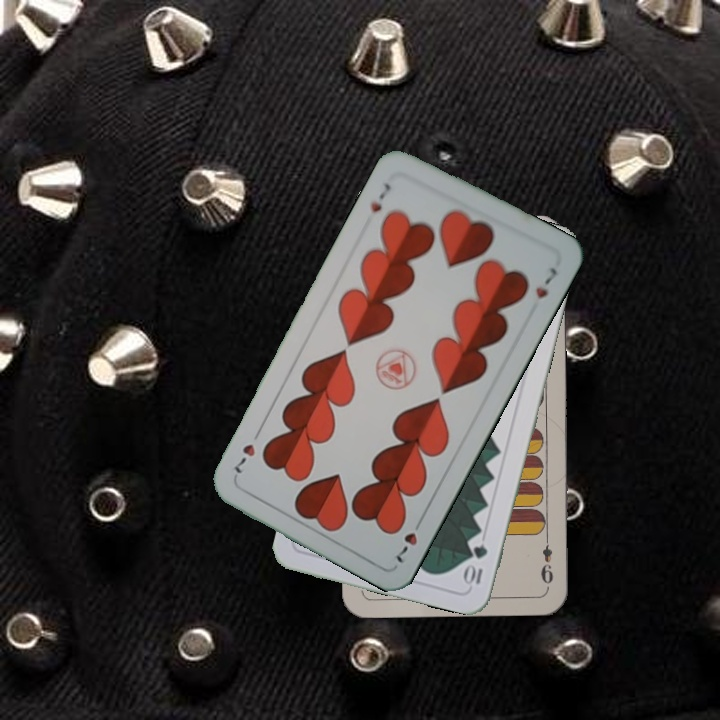E9: (537, 530, 556, 586)
G10: (462, 540, 490, 590)
H7: (391, 513, 426, 566), (366, 179, 394, 216)
